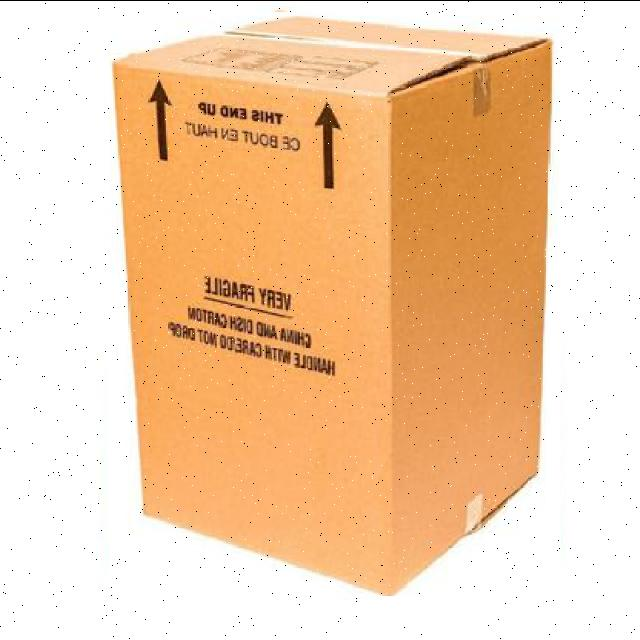normal: (109, 11, 560, 595)
